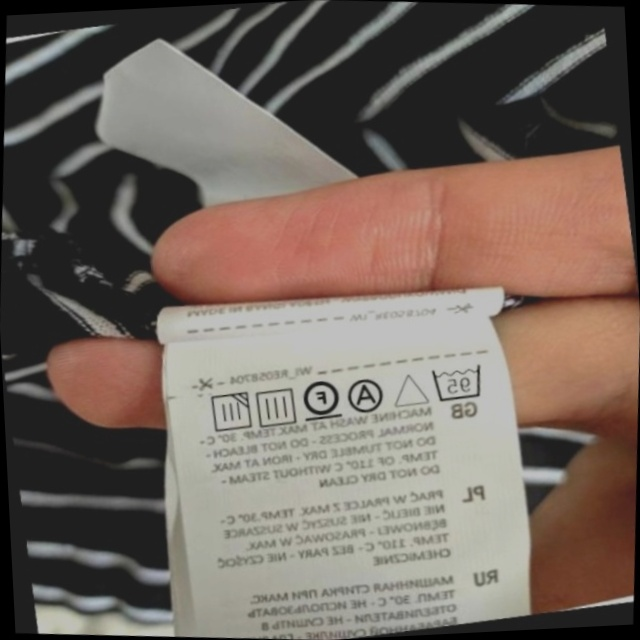95C: (425, 356, 490, 408)
bleach: (388, 364, 432, 414)
drip_dry: (249, 380, 303, 432)
drip_dry_in_shade: (201, 385, 256, 440)
dry_clean: (343, 372, 390, 418)
dry_clean_petrol_only: (296, 371, 345, 426)
